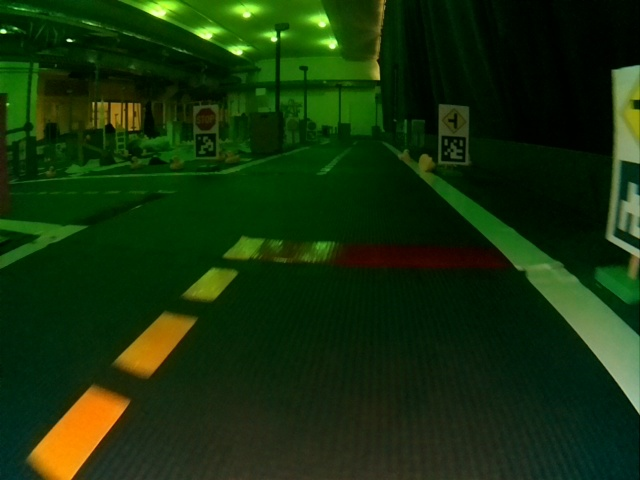Duckie: (418, 154, 432, 172)
Intersection sign: (615, 70, 639, 155), (442, 107, 467, 132)
QR code: (612, 158, 639, 248), (441, 135, 467, 163), (194, 132, 217, 158)
Stop sign: (196, 108, 216, 129)
